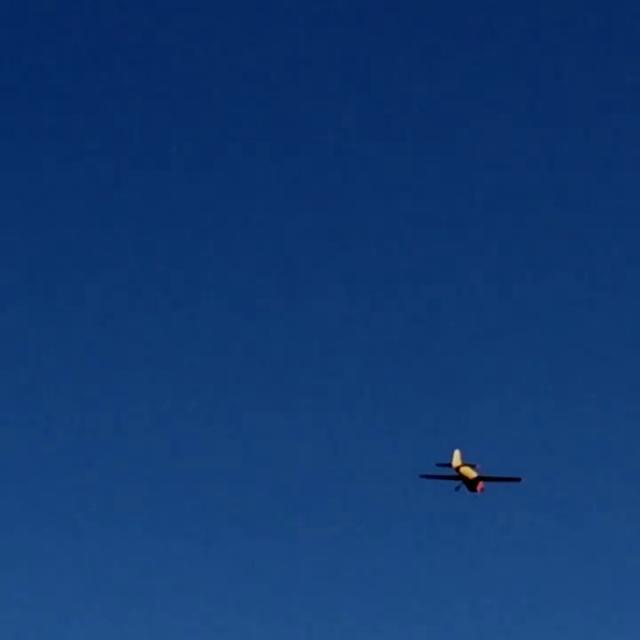iha: (446, 440, 492, 504)
